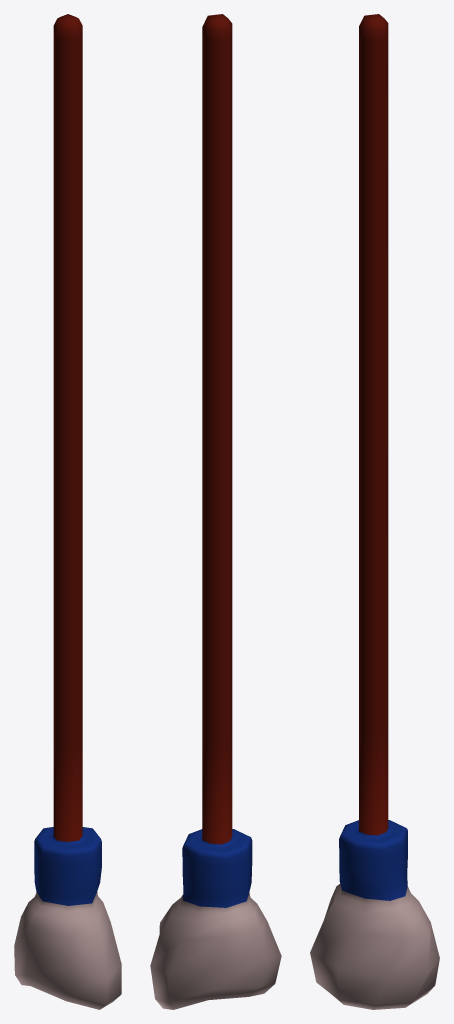
File: Mop.fbx
3 renders of one model, left to right at view 1: azimuth 90°, elevation 25°; view 2: azimuth 150°, elevation 25°; view 3: azimuth 330°, elevation 25°, orthographic.
Visible parts, largest first — view 1: Mop; view 2: Mop; view 3: Mop.
Boxes of the visible parts, x1=… form: Mop: x1=14, y1=14, x2=121, y2=1009; Mop: x1=150, y1=14, x2=281, y2=1009; Mop: x1=310, y1=14, x2=439, y2=1009.
Bounding box in the file's own units: 12.26 × 113 × 11.1.
